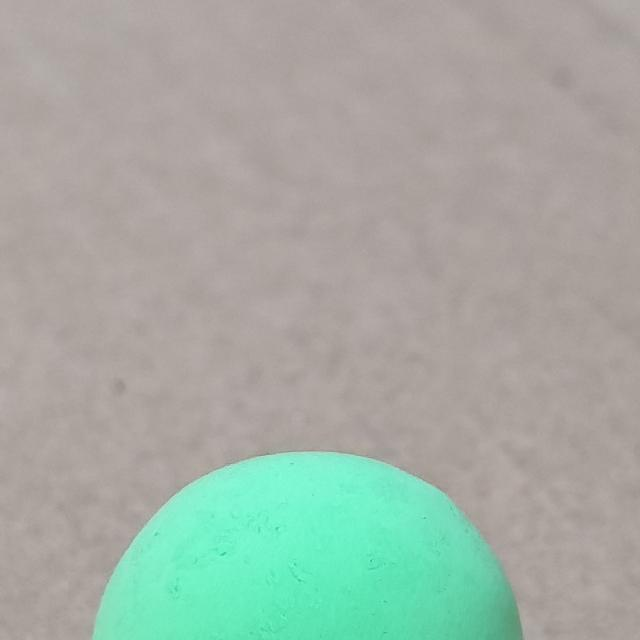bad: (92, 455, 524, 640)
